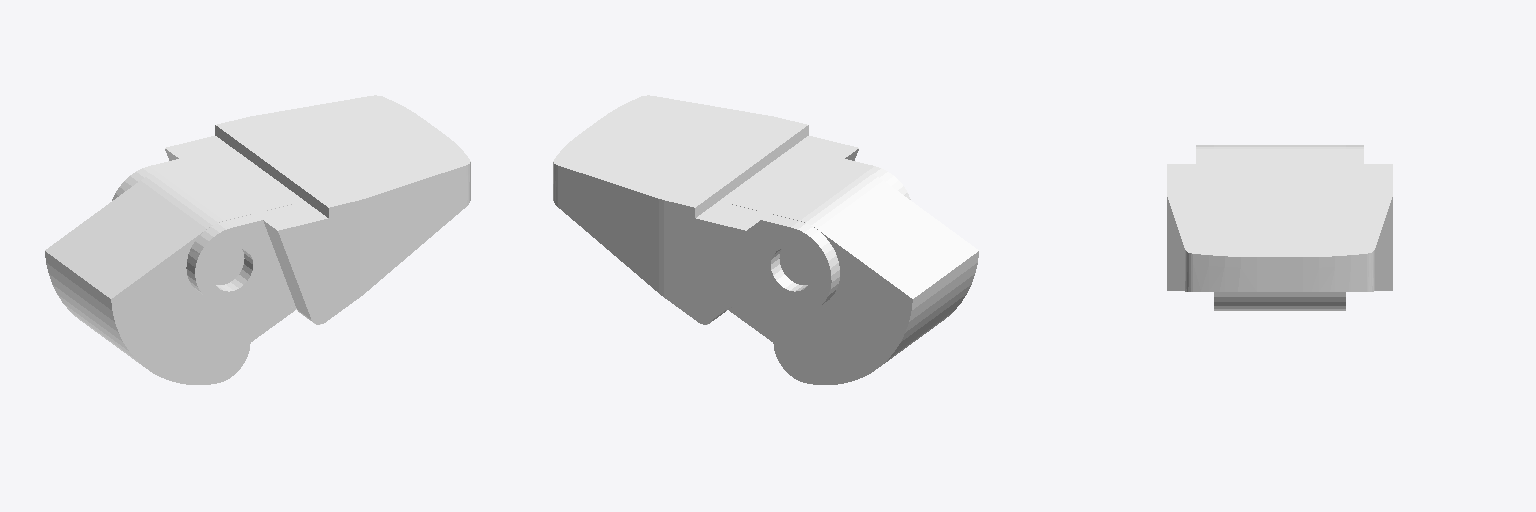
File: link_3_vis.obj
3 views of the same model, side by side, from view 1: azimuth 30°, elevation 25°; view 2: azimuth 150°, elevation 25°; view 3: azimuth 270°, elevation 25° (orthographic).
Visible parts, largest first — view 1: link_3_vis.001; view 2: link_3_vis.001; view 3: link_3_vis.001.
Boxes of the visible parts, x1,y1,x2,y2 form: link_3_vis.001: [45, 95, 470, 384]; link_3_vis.001: [553, 95, 978, 384]; link_3_vis.001: [1167, 145, 1392, 310].
Bounding box in the file's own units: 0.0558 × 0.0257 × 0.0307.